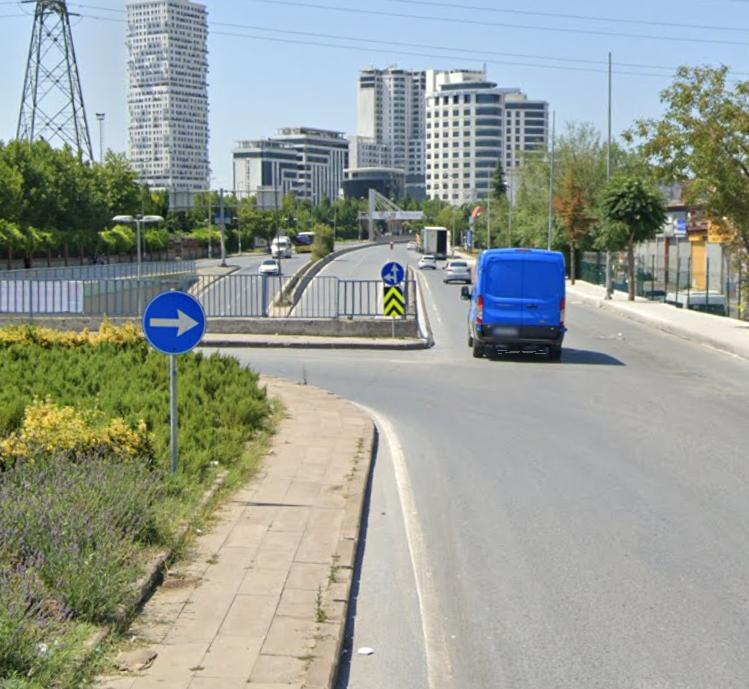turnleft: (141, 292, 210, 356)
